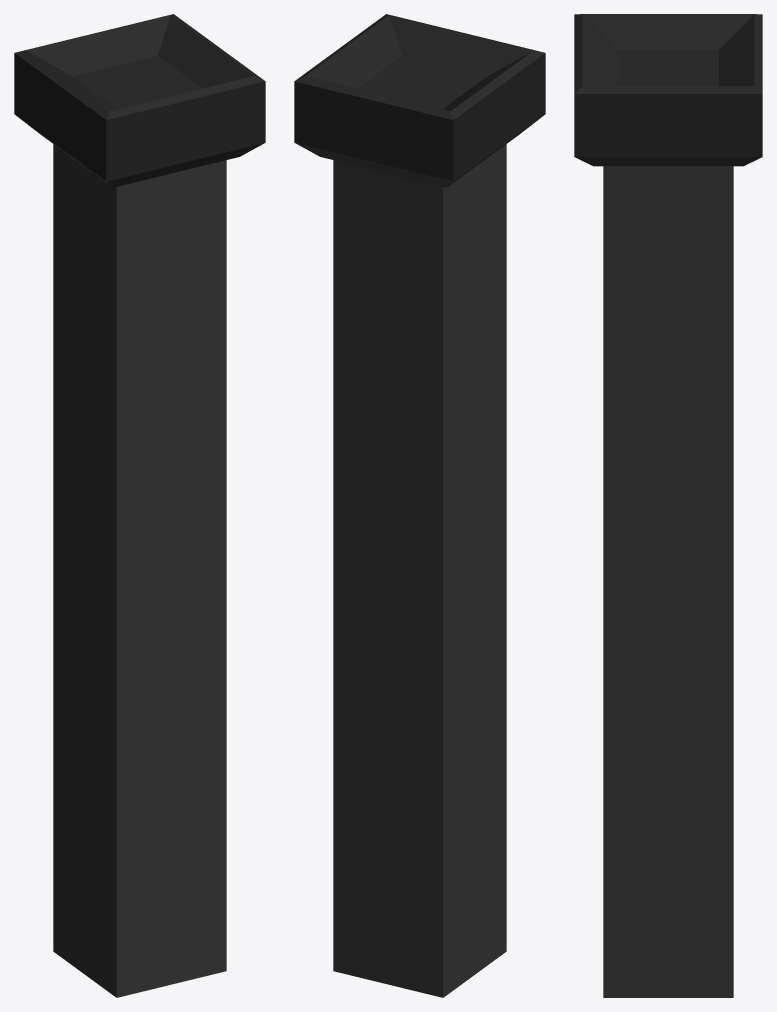
Rendered from SM_PillarFire.fbx.
The picture shows the model from 3 angles, left to right: view 1: azimuth 30°, elevation 25°; view 2: azimuth 150°, elevation 25°; view 3: azimuth 270°, elevation 25°; orthographic projection. The views are drawn at different scales.
Visible parts, largest first — view 1: SM_PillarFire; view 2: SM_PillarFire; view 3: SM_PillarFire.
Part boxes in pixels (box(x1,y1,x2,y2)): SM_PillarFire: box(14, 14, 265, 997); SM_PillarFire: box(294, 14, 545, 997); SM_PillarFire: box(574, 14, 762, 997).
Bounding box in the file's own units: 68.08 × 367 × 68.08.
